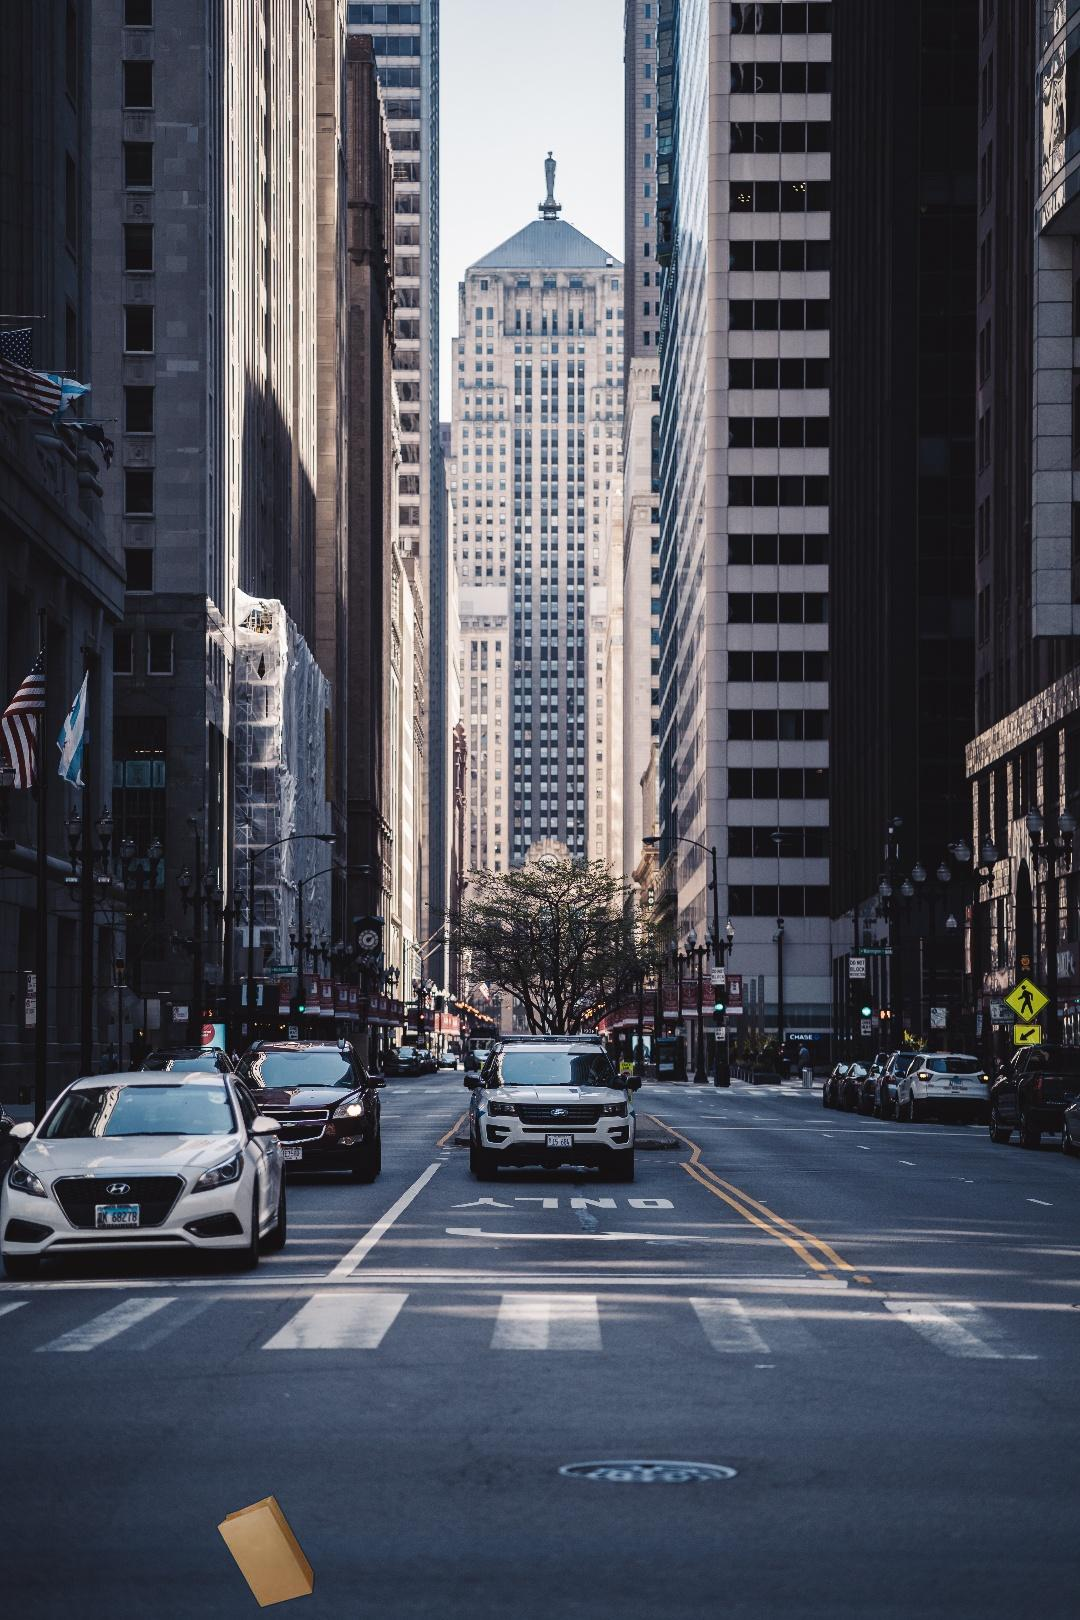paper-bag: (216, 1343, 503, 1610)
